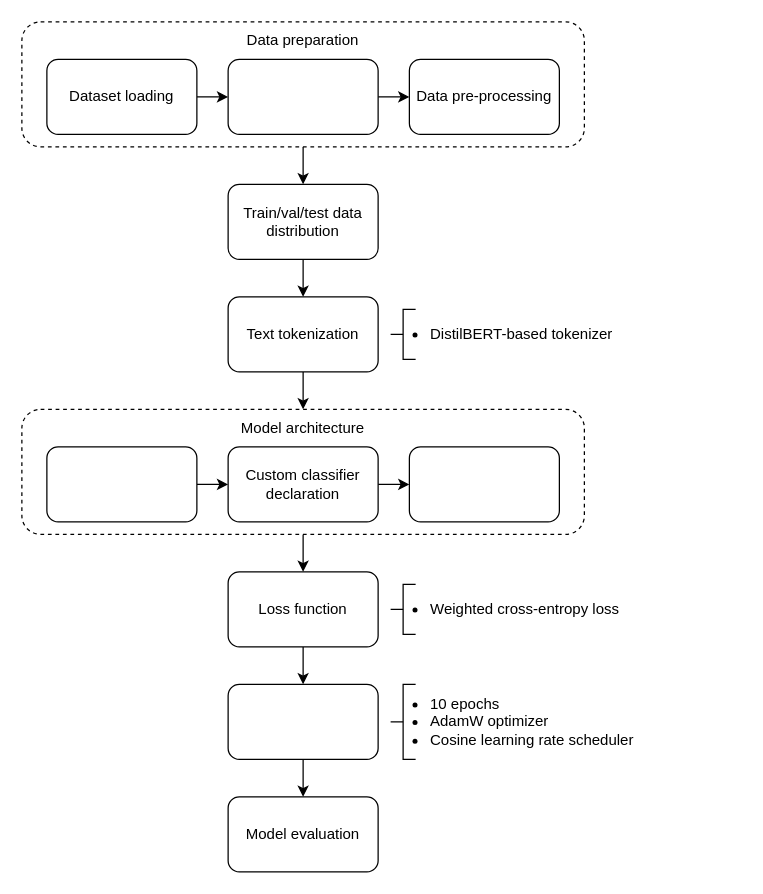
Some shapes in this 763 by 894 pixel diagram are drawn without their labels. The shapes that lost their labels are listed below. From the top down, each one's centre as x and y in pixels, then its label:
At (302,96): "Data normalization *".
At (121,484): "Pretrained transformer uploading".
At (483,484): "Gradient checkpointing".
At (302,721): "Model training".
